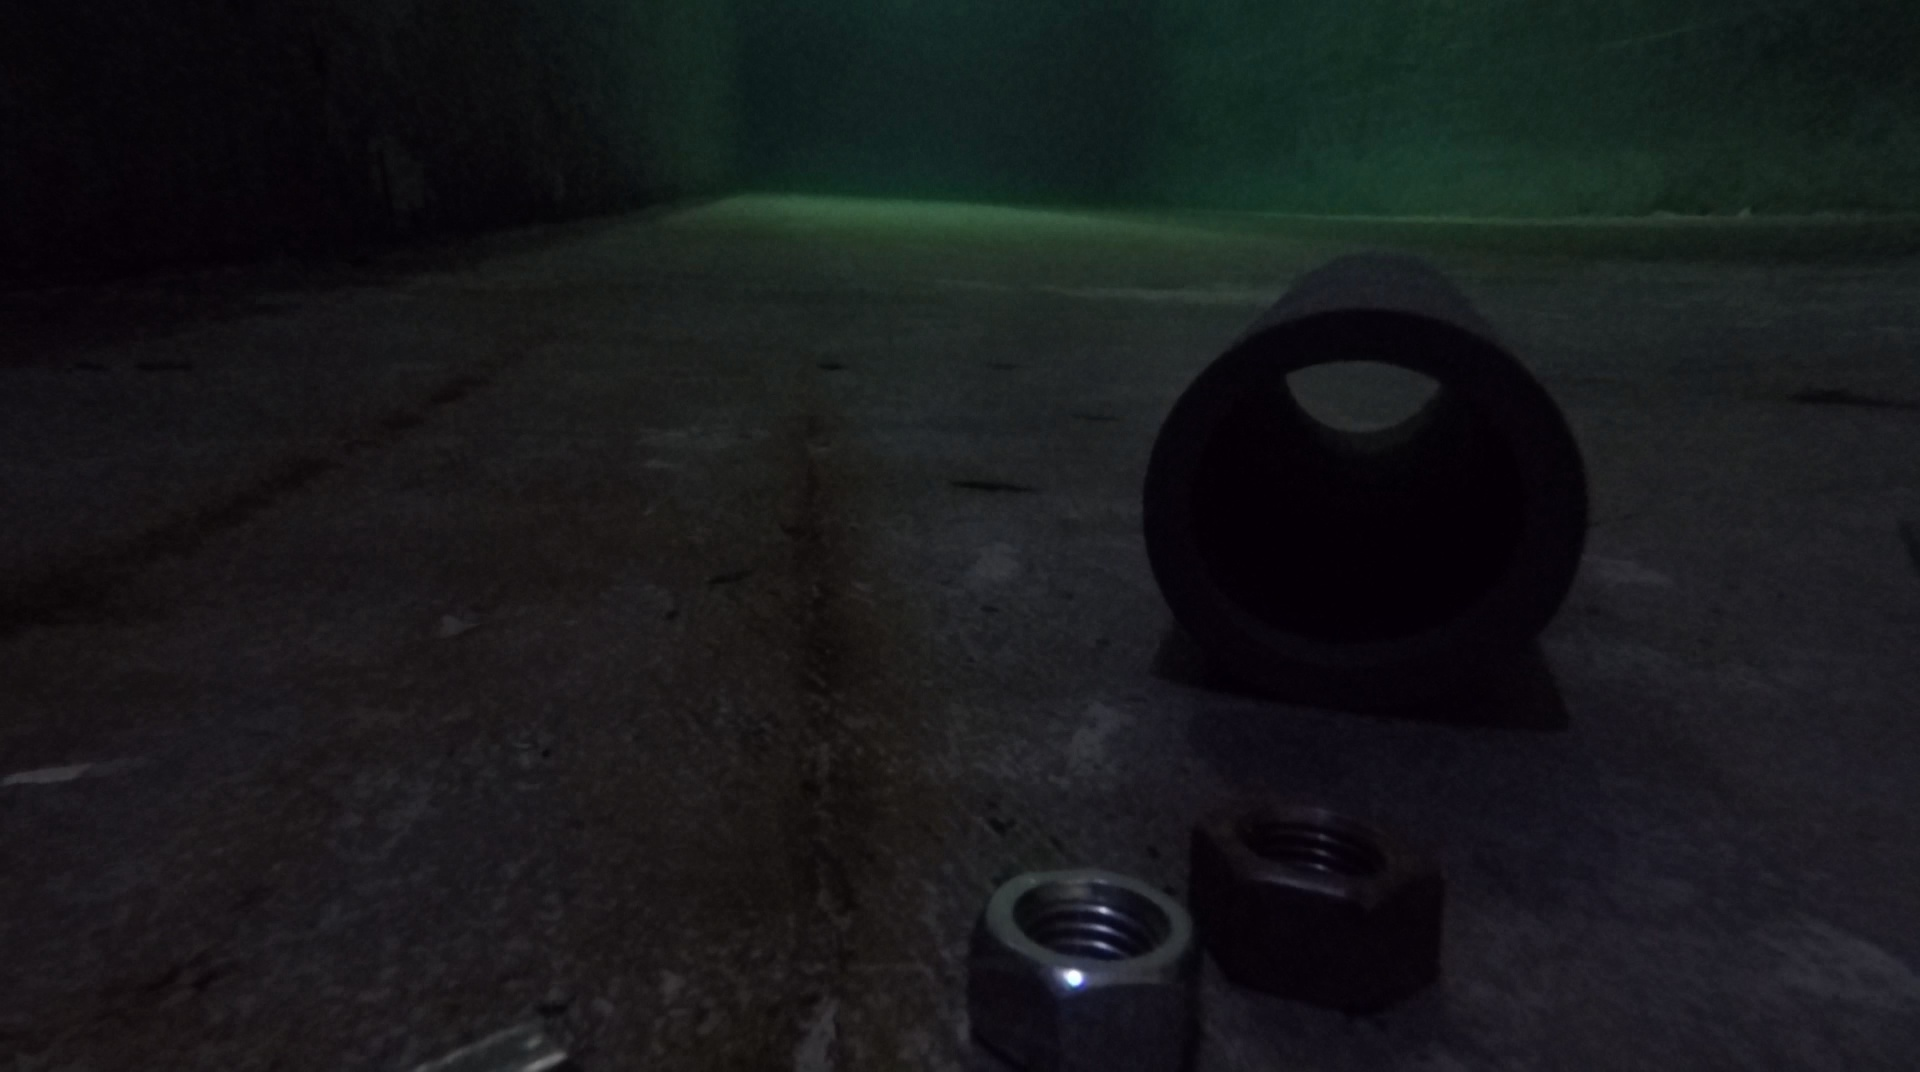nut: (1192, 789, 1447, 1011), (968, 861, 1207, 1072)
pipe: (1139, 247, 1592, 683)
